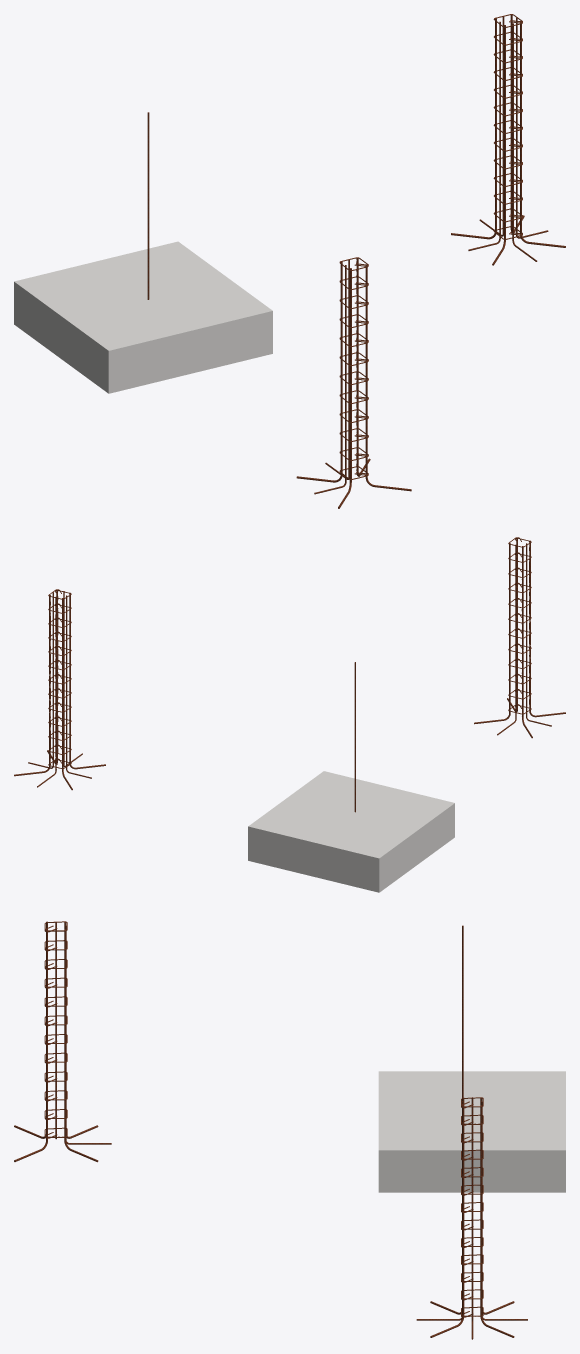
3 renders of one model, top to bottom at view 1: azimuth 30°, elevation 25°; view 2: azimuth 150°, elevation 25°; view 3: azimuth 270°, elevation 25°, orthographic. The views are drawn at different scales.
Parts seen in each view (by area): view 1: Footing-Rectangular 1800 x 1800 x 450mm [329140]001, Rebar Bar H10 : Shape 52 [368298]_[319274]001, Rebar Bar H10 : Shape 52 [368370]_[319274]001, Rebar Bar H20 : Shape Rebar Shape 1 [368371]_[319274]001, Rebar Bar H20 : Shape Rebar Shape 1 [368373]_[319274]001, Rebar Bar H20 : Shape Rebar Shape 1 [368374]_[319274]001, Rebar Bar H20 : Shape Rebar Shape 1 [368372]_[319274]001; view 2: Footing-Rectangular 1800 x 1800 x 450mm [329140]001, Rebar Bar H10 : Shape 52 [368298]_[319274]001, Rebar Bar H10 : Shape 52 [368370]_[319274]001; view 3: Footing-Rectangular 1800 x 1800 x 450mm [329140]001, Rebar Bar H10 : Shape 52 [368298]_[319274]001, Rebar Bar H10 : Shape 52 [368370]_[319274]001, Rebar Bar H20 : Shape Rebar Shape 1 [368372]_[319274]001, Rebar Bar H20 : Shape Rebar Shape 1 [368300]_[319274]001, Rebar Bar H20 : Shape Rebar Shape 1 [368301]_[319274]001, Rebar Bar H16 : Shape Rebar Shape 1 [368305]_[319274]001.
Part boxes in pixels (x1,y1,x2,y2): Footing-Rectangular 1800 x 1800 x 450mm [329140]001: [14, 241, 272, 393]; Rebar Bar H10 : Shape 52 [368298]_[319274]001: [493, 14, 522, 239]; Rebar Bar H10 : Shape 52 [368370]_[319274]001: [339, 257, 368, 479]; Rebar Bar H20 : Shape Rebar Shape 1 [368371]_[319274]001: [296, 261, 342, 482]; Rebar Bar H20 : Shape Rebar Shape 1 [368373]_[319274]001: [365, 264, 411, 491]; Rebar Bar H20 : Shape Rebar Shape 1 [368374]_[319274]001: [338, 268, 351, 508]; Rebar Bar H20 : Shape Rebar Shape 1 [368372]_[319274]001: [356, 257, 370, 476]; Footing-Rectangular 1800 x 1800 x 450mm [329140]001: [248, 771, 454, 892]; Rebar Bar H10 : Shape 52 [368298]_[319274]001: [48, 589, 71, 768]; Rebar Bar H10 : Shape 52 [368370]_[319274]001: [508, 537, 531, 714]; Footing-Rectangular 1800 x 1800 x 450mm [329140]001: [378, 1071, 565, 1192]; Rebar Bar H10 : Shape 52 [368298]_[319274]001: [461, 1097, 483, 1317]; Rebar Bar H10 : Shape 52 [368370]_[319274]001: [44, 921, 67, 1138]; Rebar Bar H20 : Shape Rebar Shape 1 [368372]_[319274]001: [64, 929, 98, 1162]; Rebar Bar H20 : Shape Rebar Shape 1 [368300]_[319274]001: [480, 1105, 514, 1337]; Rebar Bar H20 : Shape Rebar Shape 1 [368301]_[319274]001: [430, 1105, 464, 1337]; Rebar Bar H16 : Shape Rebar Shape 1 [368305]_[319274]001: [471, 1105, 473, 1339].
Bounding box in the file's own units: 5.33 × 2.41 × 5.31.
2 materials, 1 textured.
